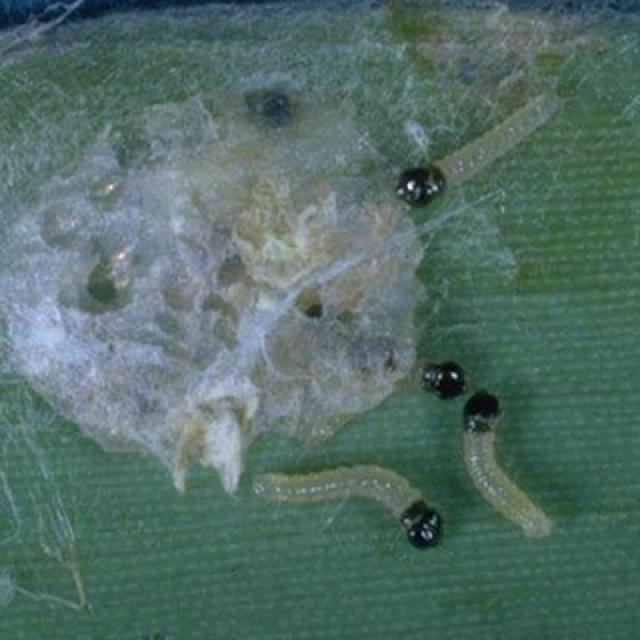cornborer-Larva-: (386, 83, 566, 211), (252, 456, 454, 556), (458, 387, 550, 554)
